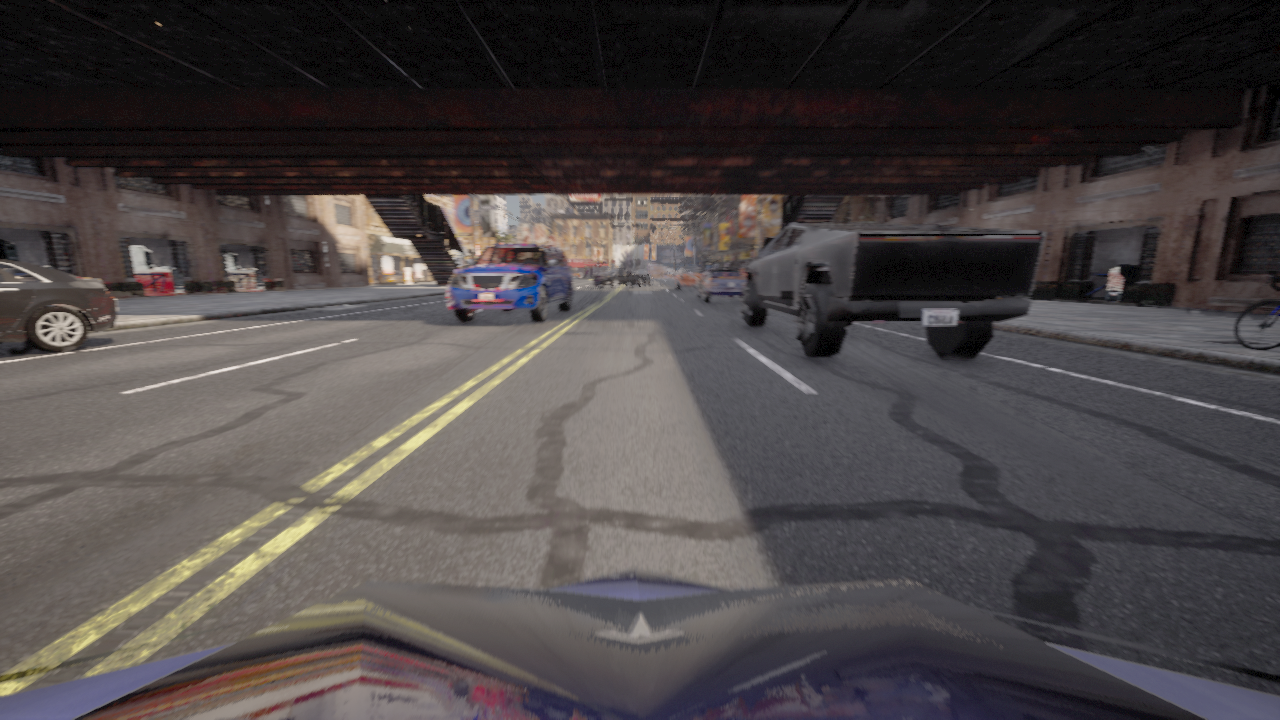cyclist: (0, 569, 1279, 719), (738, 223, 1045, 358), (447, 243, 572, 322), (1234, 273, 1279, 349), (695, 269, 744, 301), (593, 270, 645, 288), (674, 266, 703, 290), (634, 270, 651, 285)
